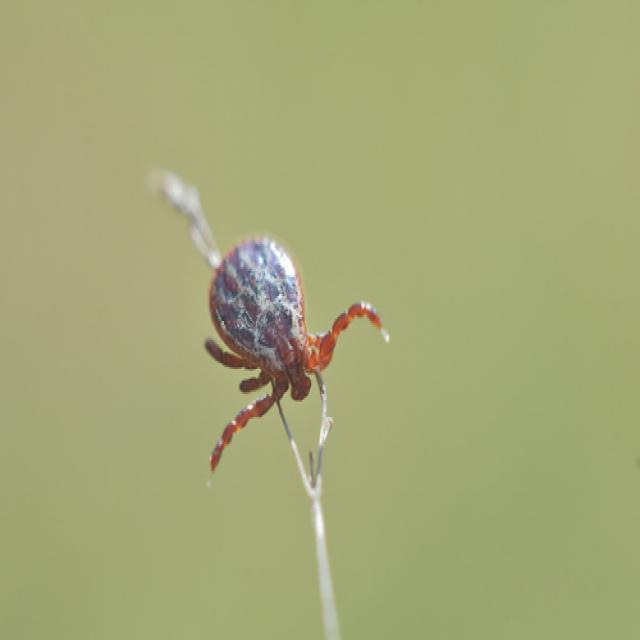Dermacentor Reticulatus-M: (205, 236, 390, 475)
